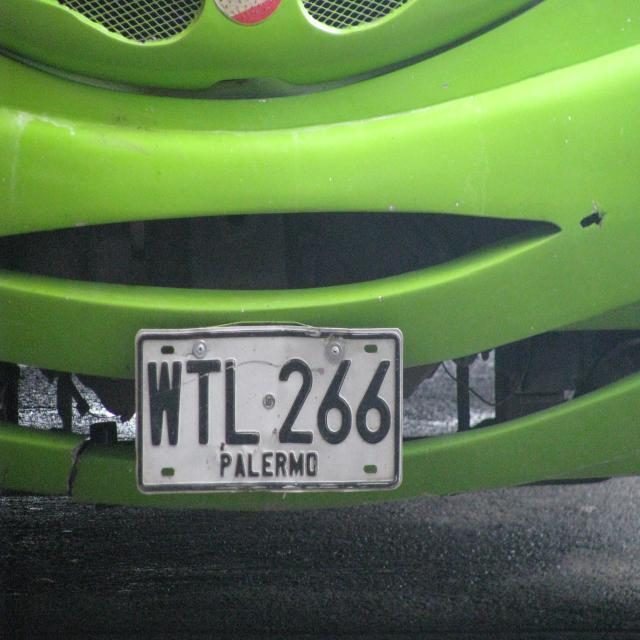placa: (132, 323, 404, 496)
